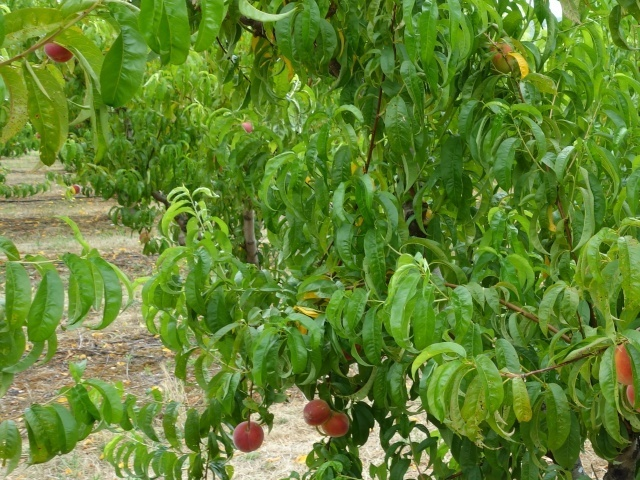peach: (607, 338, 639, 389), (230, 416, 267, 456), (483, 40, 516, 79), (40, 34, 77, 67), (320, 408, 352, 443), (300, 396, 333, 429), (618, 378, 640, 418)
